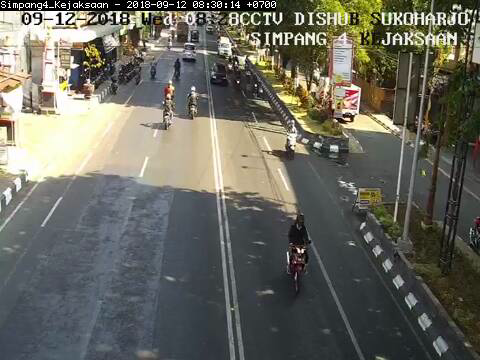motor: (286, 212, 313, 296), (283, 117, 299, 160)
